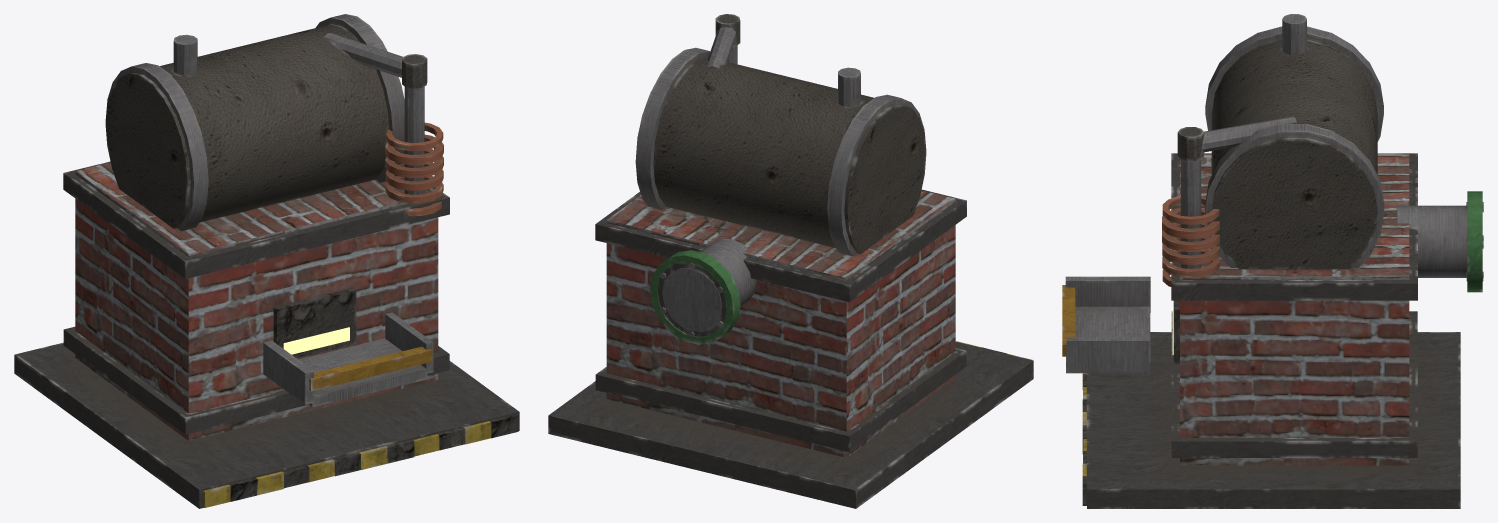
Rendered from feShaleRetort_HD.fbx.
3 views of the same model, side by side, from view 1: azimuth 30°, elevation 25°; view 2: azimuth 150°, elevation 25°; view 3: azimuth 270°, elevation 25° (orthographic). The views are drawn at different scales.
Visible parts, largest first — view 1: feShaleRetort_Base; view 2: feShaleRetort_Base; view 3: feShaleRetort_Base.
Part boxes in pixels (<box>): feShaleRetort_Base: <box>14,14,519,508</box>; feShaleRetort_Base: <box>548,14,1033,508</box>; feShaleRetort_Base: <box>1062,14,1483,508</box>.
Bounding box in the file's own units: 0.9012 × 1 × 1.02.
2 materials, 1 textured.
